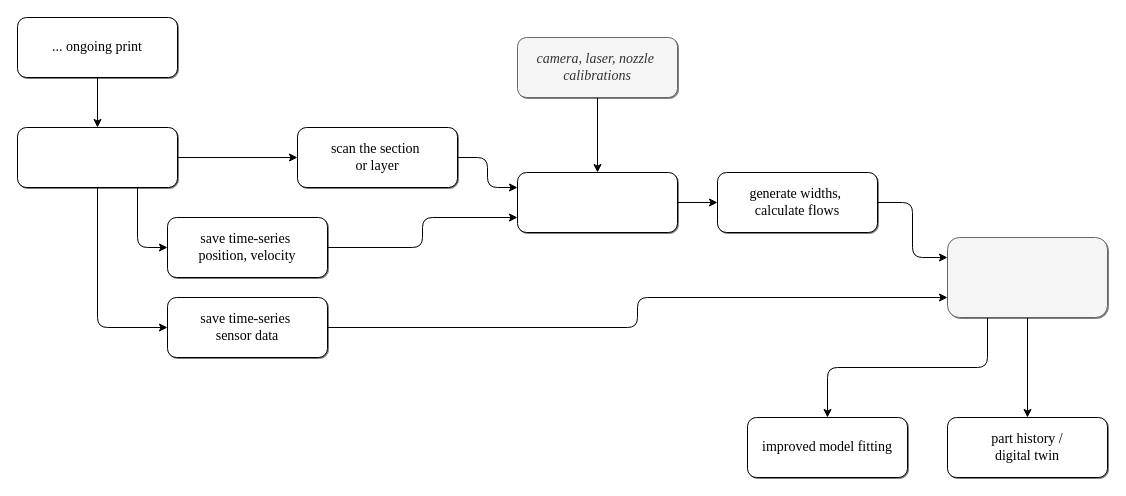
This 1126x496 diagram has some shape labels left out. The shapes that lost their labels are listed below. From the top down, each one's centre as x and y in pixels, then its label:
(97,157): print a section or layer of the part
(597,203): align scans with motion data
(1027,277): combined data: sensor readings, motion states, flows
